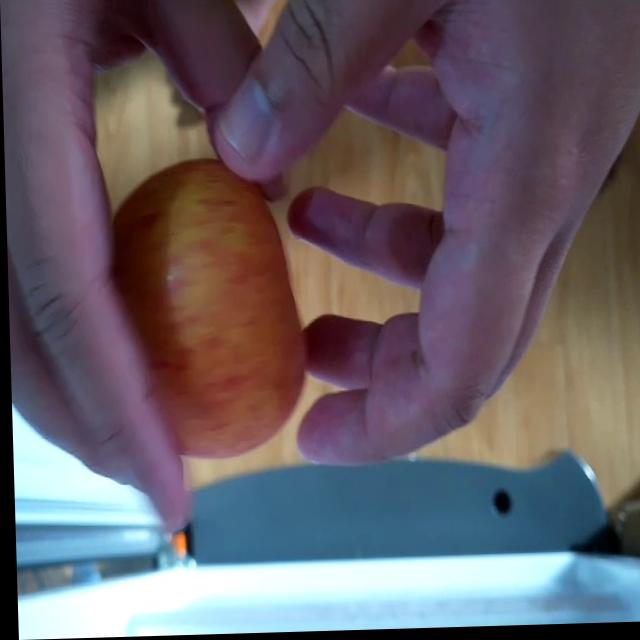apple: (112, 162, 303, 461)
